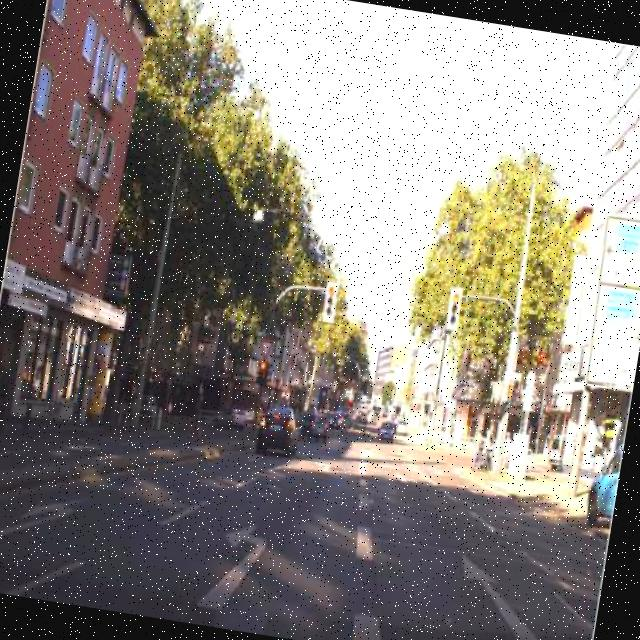Ustap pierwszenstwa: (258, 334, 276, 364)
